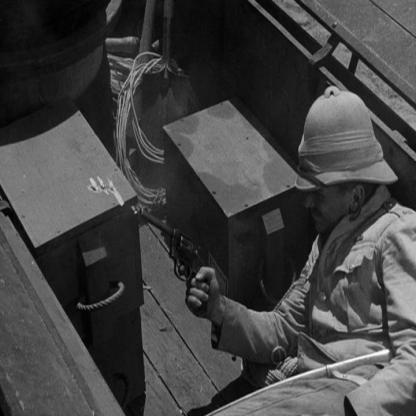gun: (128, 190, 213, 293)
